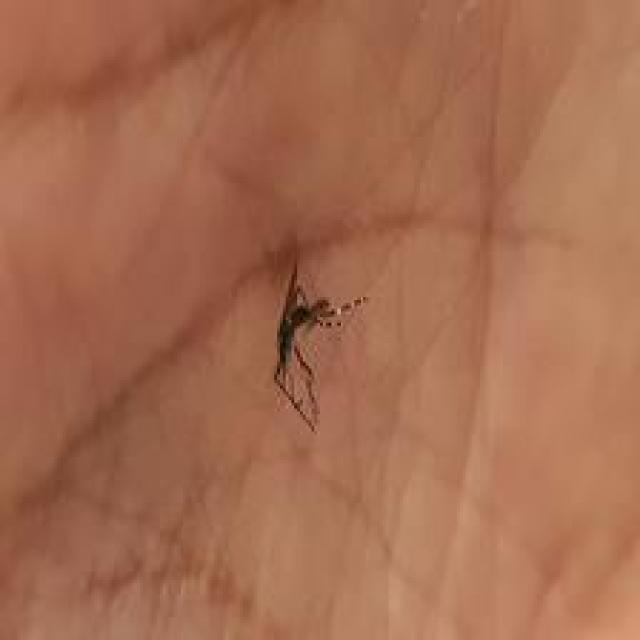Aedes albopictus: (270, 258, 370, 433)
